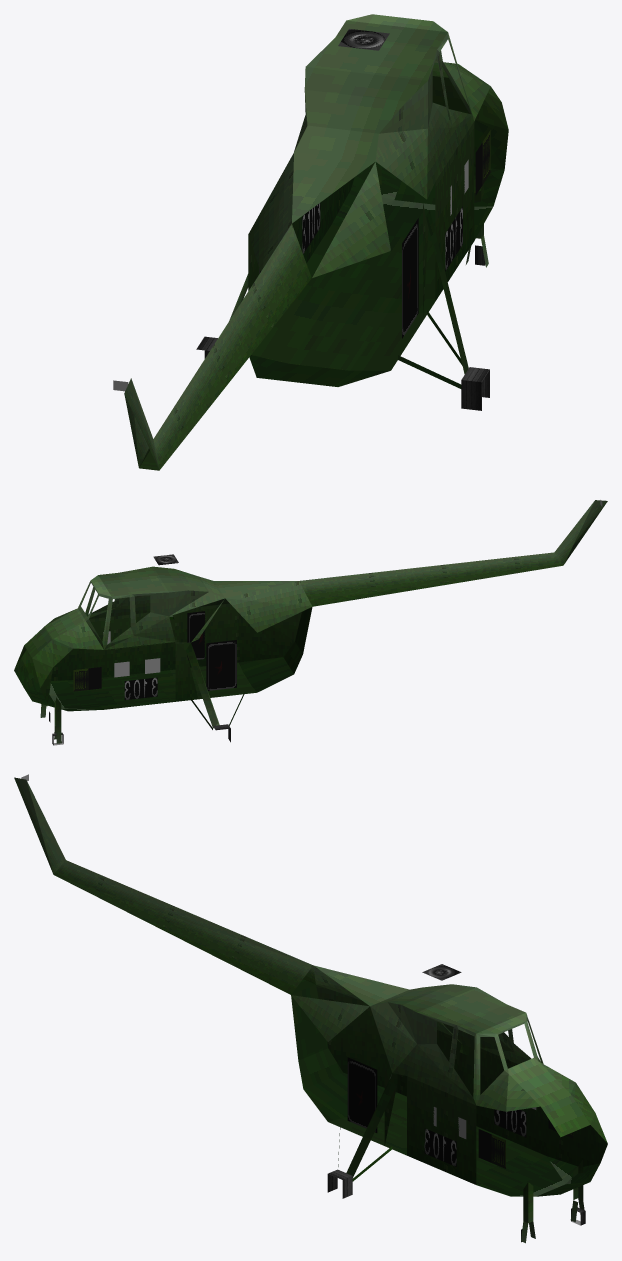
Rendered from primary_008.glb.
3 renders of one model, top to bottom at view 1: azimuth 30°, elevation 25°; view 2: azimuth 150°, elevation 25°; view 3: azimuth 270°, elevation 25°, orthographic. The views are drawn at different scales.
Parts seen in each view (by area): view 1: Object; view 2: Object; view 3: Object.
Part boxes in pixels (x1,y1,x2,y2): Object: [113, 14, 508, 470]; Object: [14, 500, 607, 745]; Object: [14, 774, 607, 1243].
Size of the model in its own units: 1.22 by 0.5175 by 1.22.
Materials: 68 (68 with a texture image).
